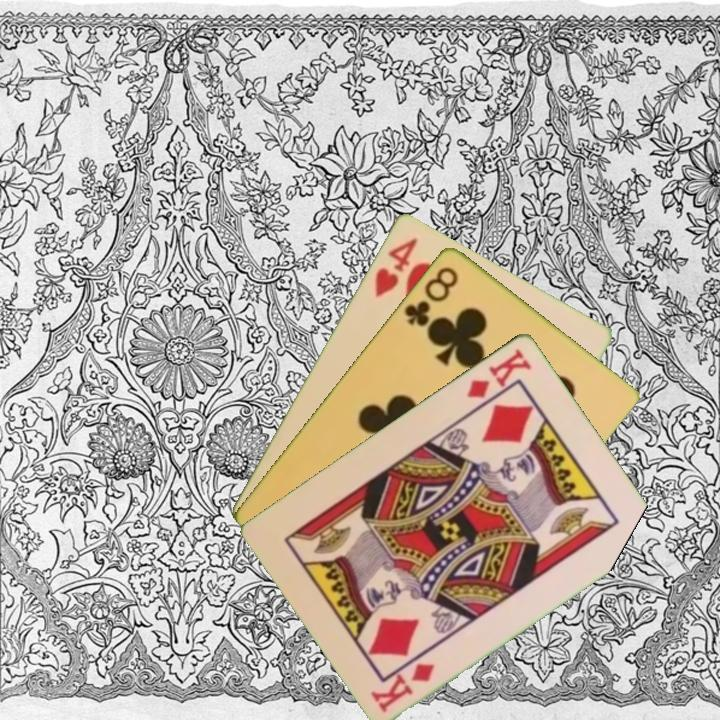4h: (371, 233, 421, 300)
8c: (400, 262, 462, 329)
Kd: (463, 344, 535, 401), (367, 658, 438, 715)
